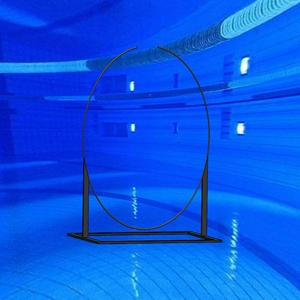circle: (66, 45, 224, 245)
